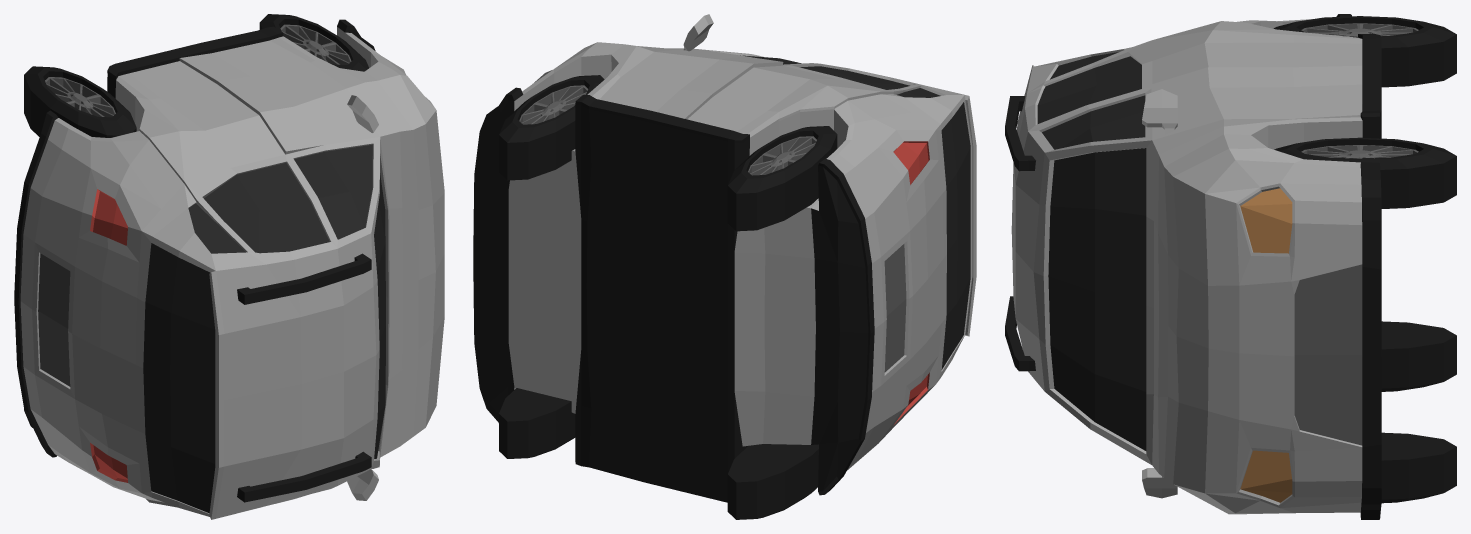
The model's file is minivan.glb.
3 views of the same model, side by side, from view 1: azimuth 30°, elevation 25°; view 2: azimuth 150°, elevation 25°; view 3: azimuth 270°, elevation 25° (orthographic). The views are drawn at different scales.
Parts seen in each view (by area): view 1: vehicle/minivan; view 2: vehicle/minivan; view 3: vehicle/minivan.
Boxes of the visible parts, box(x1,y1,x2,y2) form: vehicle/minivan: box(14, 14, 444, 519); vehicle/minivan: box(473, 14, 976, 519); vehicle/minivan: box(1005, 14, 1456, 519).
Size of the model in its own units: 1 by 1 by 1.
